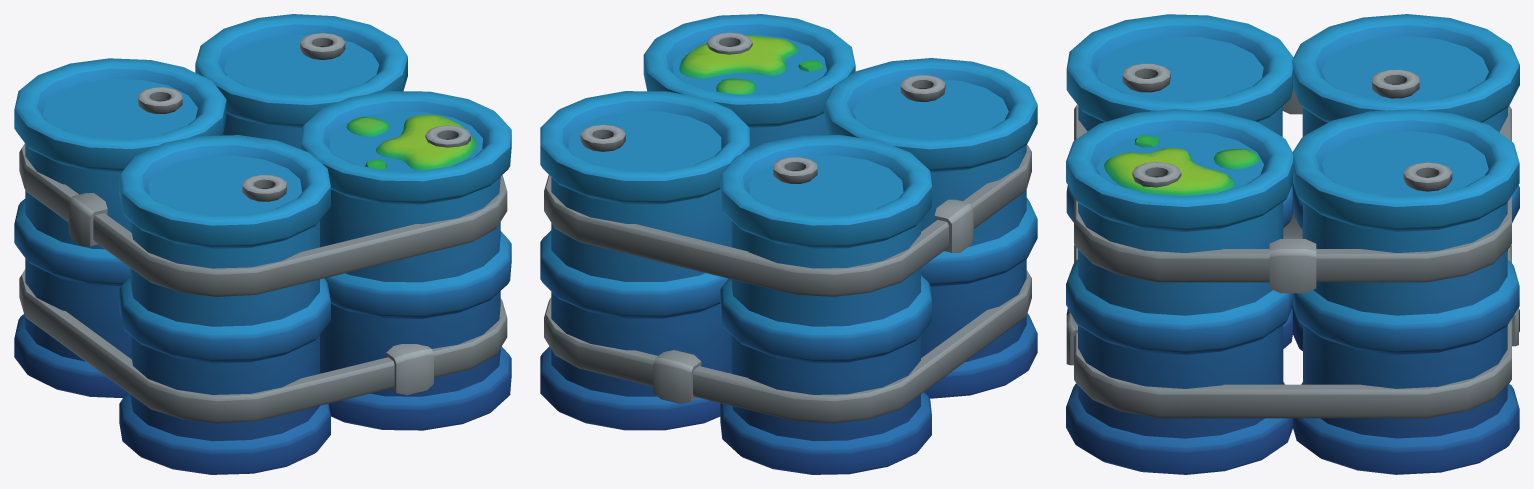
File: Fuel_C_Barrels.glb
3 views of the same model, side by side, from view 1: azimuth 30°, elevation 25°; view 2: azimuth 150°, elevation 25°; view 3: azimuth 270°, elevation 25° (orthographic). The views are drawn at different scales.
Parts seen in each view (by area): view 1: Fuel_C_Barrels; view 2: Fuel_C_Barrels; view 3: Fuel_C_Barrels.
Part boxes in pixels (x1,y1,x2,y2): Fuel_C_Barrels: [14, 14, 511, 474]; Fuel_C_Barrels: [540, 14, 1037, 474]; Fuel_C_Barrels: [1066, 14, 1519, 474].
Size of the model in its own units: 1.51 by 1.01 by 1.51.
1 material, 1 textured.
